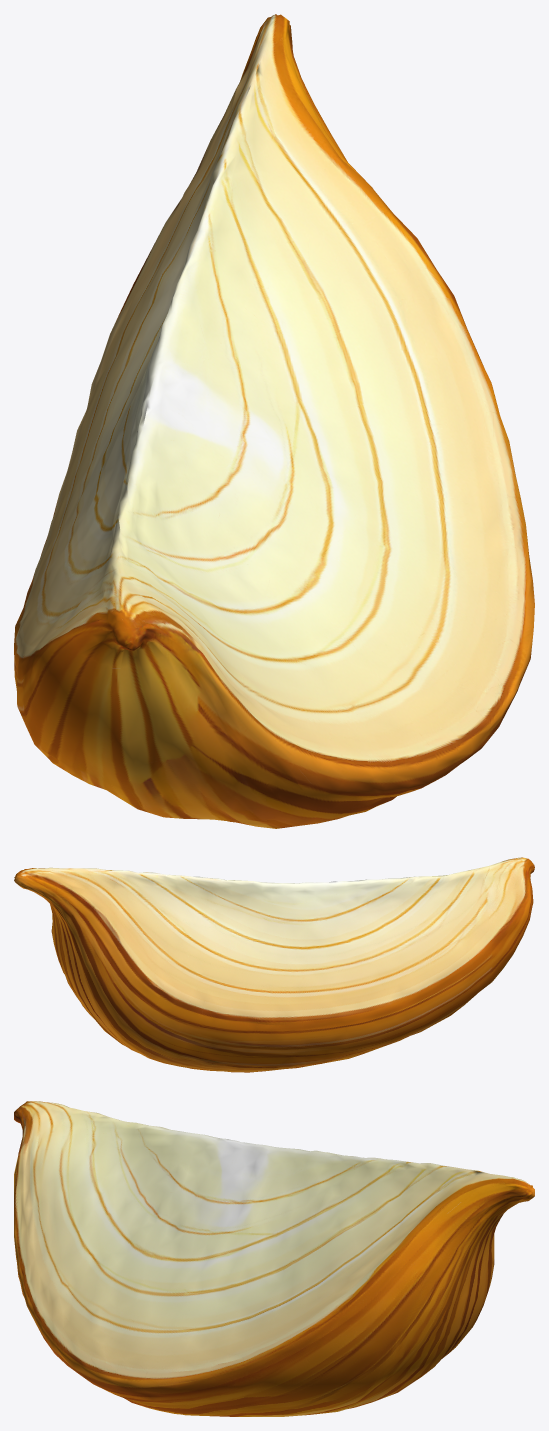
The model's file is onion_slice_piece.fbx.
The picture shows the model from 3 angles, top to bottom: view 1: azimuth 30°, elevation 25°; view 2: azimuth 150°, elevation 25°; view 3: azimuth 270°, elevation 25°; orthographic projection. The views are drawn at different scales.
Visible parts, largest first — view 1: onion_piece; view 2: onion_piece; view 3: onion_piece.
Boxes of the visible parts, bbox=[...] form: onion_piece: bbox=[14, 14, 534, 828]; onion_piece: bbox=[14, 857, 534, 1072]; onion_piece: bbox=[14, 1101, 534, 1416].
Size of the model in its own units: 16.28 by 11.51 by 19.02.
Materials: 1 (1 with a texture image).
